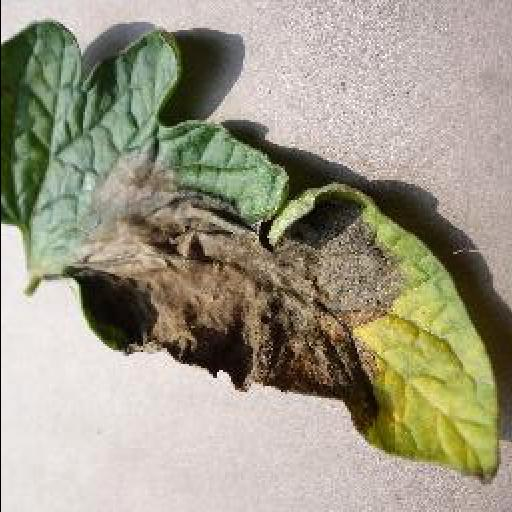disease_tomato: (0, 20, 506, 486)
